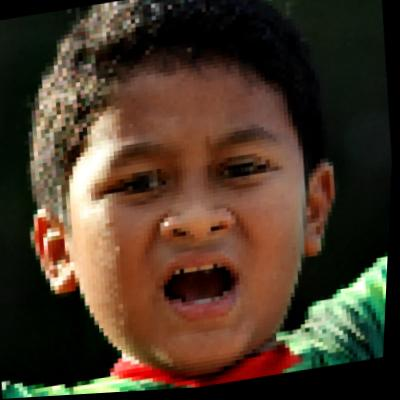surprise: (55, 38, 323, 389)
